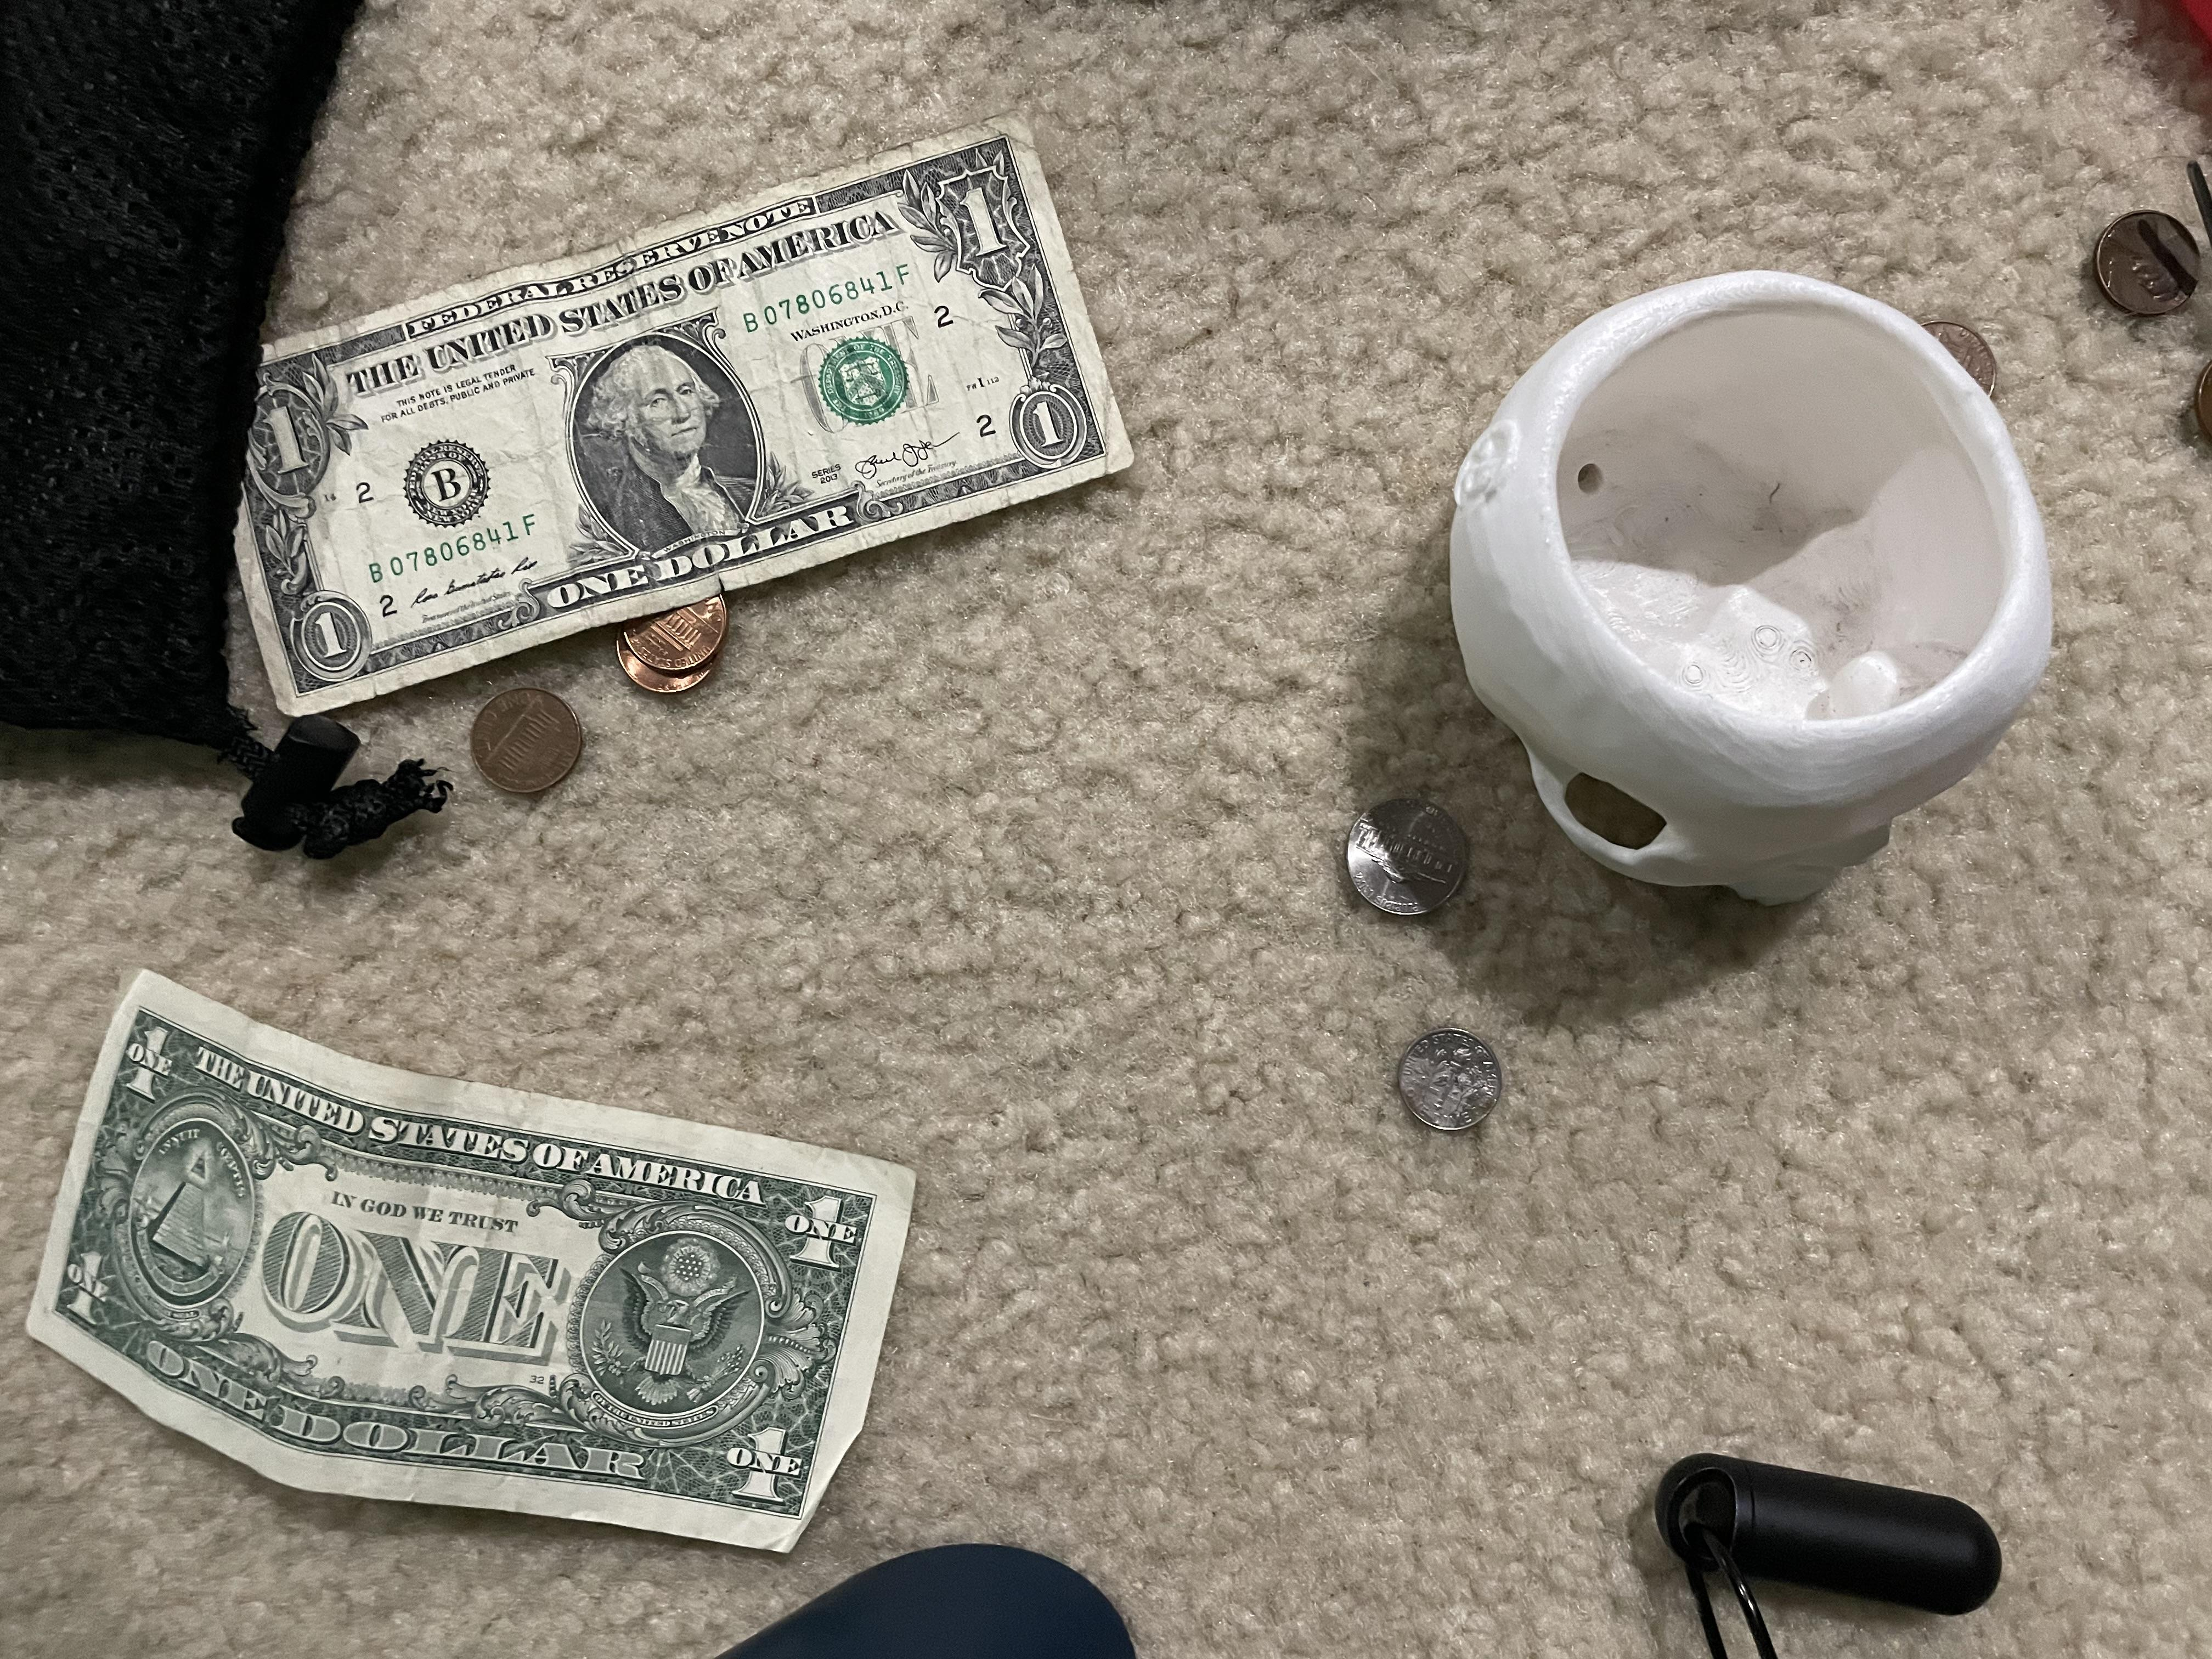Dime: (1388, 1026, 1526, 1143)
Nickel: (1331, 793, 1475, 927)
OneBill: (181, 112, 1143, 714), (24, 971, 913, 1554)
Penny: (451, 687, 594, 805), (2083, 214, 2207, 305), (615, 598, 751, 667)
